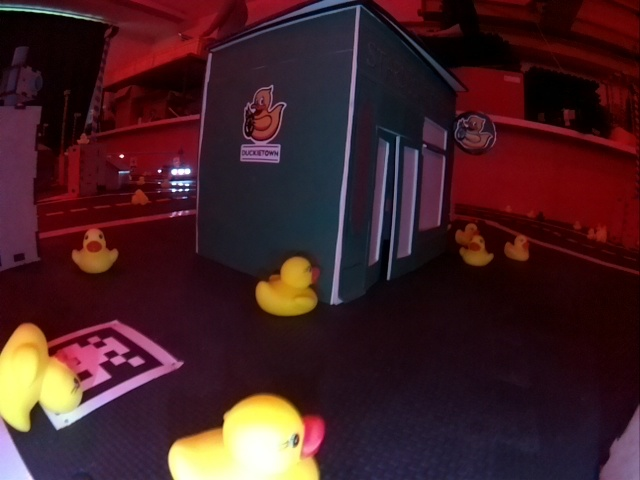Duckie: (170, 395, 326, 478), (3, 324, 82, 429), (256, 261, 318, 313), (74, 229, 116, 271), (461, 238, 490, 265), (504, 235, 529, 259), (455, 223, 479, 245), (132, 190, 148, 204)
QR code: (40, 320, 183, 429)
